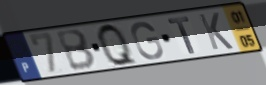7: (26, 30, 60, 76)
B: (54, 27, 99, 72)
G: (130, 20, 165, 61)
K: (197, 11, 236, 52)
Q: (95, 22, 141, 68)
T: (165, 15, 197, 56)
